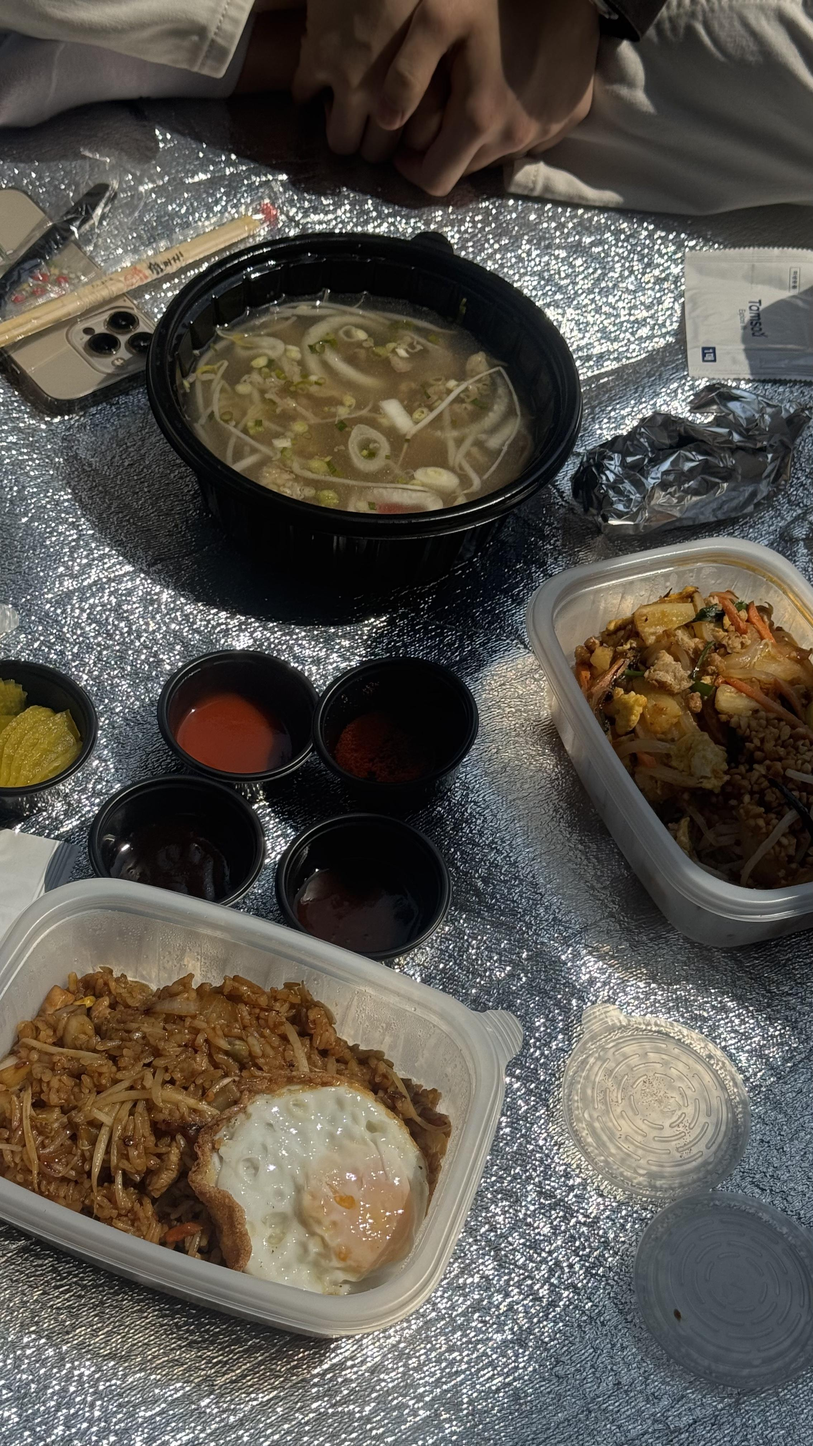Lunch Box: (0, 880, 521, 1337), (146, 232, 582, 611), (528, 539, 813, 945)
cup: (562, 1005, 813, 1389), (313, 657, 479, 816), (275, 814, 450, 960), (88, 775, 265, 906), (157, 651, 317, 785), (0, 661, 98, 813)
